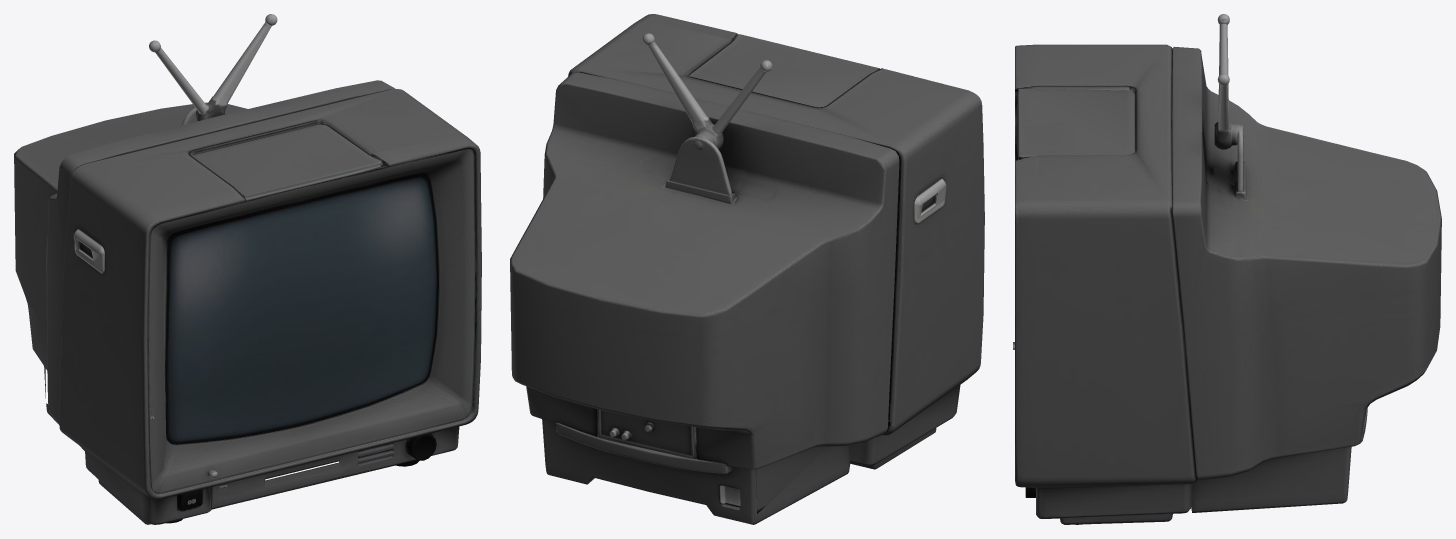
The model's file is tv-portable.glb.
3 renders of one model, left to right at view 1: azimuth 30°, elevation 25°; view 2: azimuth 150°, elevation 25°; view 3: azimuth 270°, elevation 25°, orthographic.
Parts seen in each view (by area): view 1: ee35c728_5c44_4a29_bec1_031022795ddb; view 2: ee35c728_5c44_4a29_bec1_031022795ddb; view 3: ee35c728_5c44_4a29_bec1_031022795ddb.
Boxes of the visible parts, x1,y1,x2,y2 form: ee35c728_5c44_4a29_bec1_031022795ddb: (14, 14, 481, 524); ee35c728_5c44_4a29_bec1_031022795ddb: (510, 14, 984, 524); ee35c728_5c44_4a29_bec1_031022795ddb: (1013, 14, 1441, 524).
Bounding box in the file's own units: 0.8726 × 0.9995 × 0.9321.
Materials: 1 (1 with a texture image).
